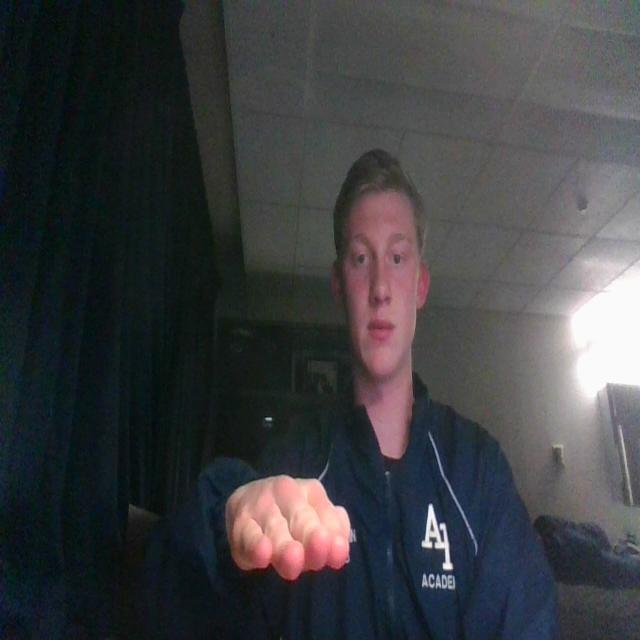paper: (222, 466, 356, 588)
